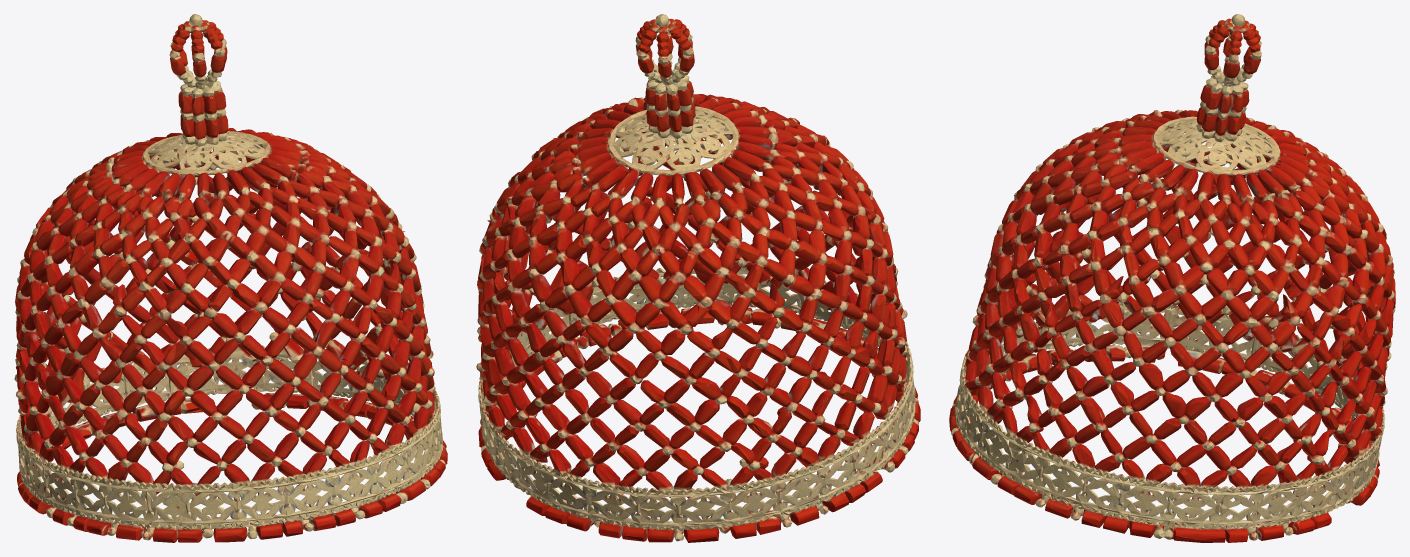
The model's file is coral-crown.glb.
3 renders of one model, left to right at view 1: azimuth 30°, elevation 25°; view 2: azimuth 150°, elevation 25°; view 3: azimuth 270°, elevation 25°, orthographic. The views are drawn at different scales.
Parts seen in each view (by area): view 1: Mesh_0; view 2: Mesh_0; view 3: Mesh_0.
Boxes of the visible parts, x1,y1,x2,y2 form: Mesh_0: [14, 14, 447, 542]; Mesh_0: [476, 14, 920, 542]; Mesh_0: [949, 14, 1395, 542].
Bounding box in the file's own units: 20.56 × 23.85 × 21.04.
1 material, 1 textured.
